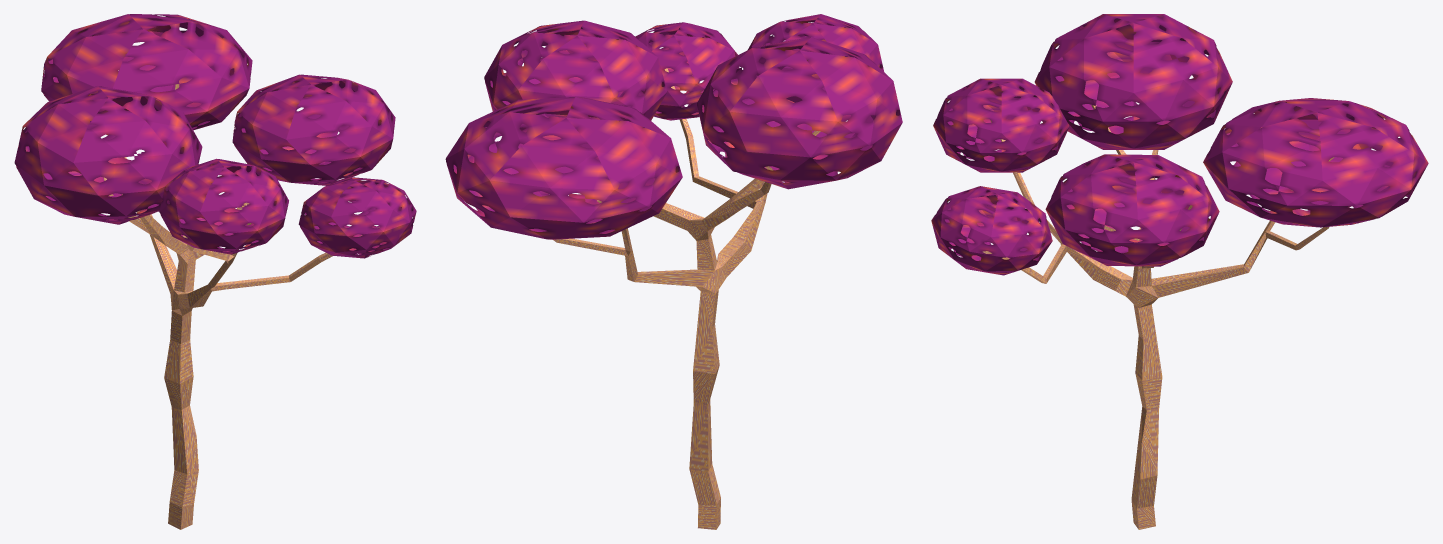
File: Tree_3.obj
3 views of the same model, side by side, from view 1: azimuth 30°, elevation 25°; view 2: azimuth 150°, elevation 25°; view 3: azimuth 270°, elevation 25° (orthographic). The views are drawn at different scales.
Visible parts, largest first — view 1: Tree_3_Cube.002; view 2: Tree_3_Cube.002; view 3: Tree_3_Cube.002.
Boxes of the visible parts, left/top/right/bottom form: Tree_3_Cube.002: left=14, top=14, right=416, bottom=529; Tree_3_Cube.002: left=445, top=14, right=902, bottom=529; Tree_3_Cube.002: left=931, top=14, right=1428, bottom=529.
Size of the model in its own units: 66.16 by 79.99 by 77.82.
